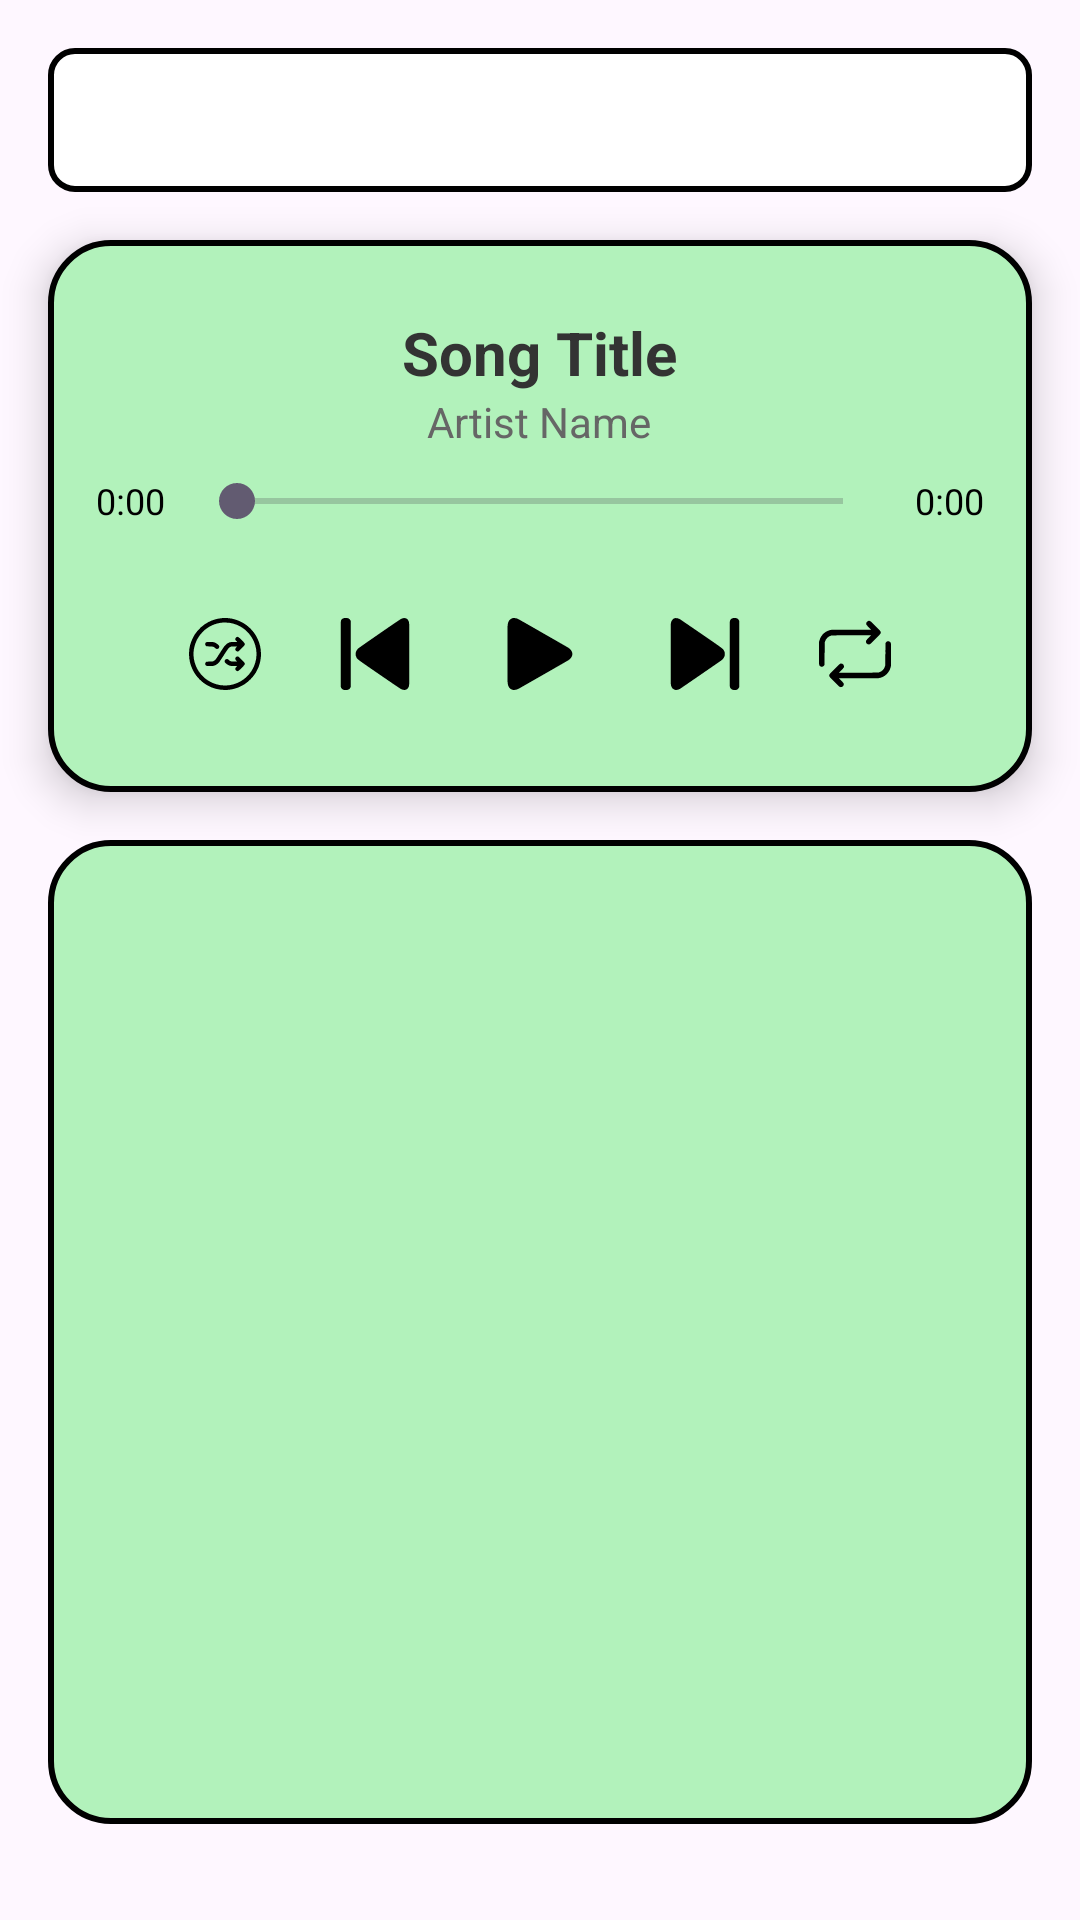

Where to tap for icons on this 1080w x 1920h app screen, as (x,y):
next: (705,654)
play: (540,654)
previous: (375,654)
repeat: (855,653)
shuffle: (225,654)
